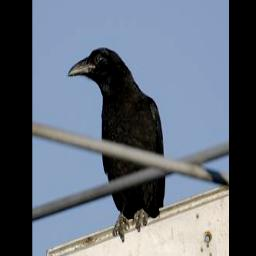Crow: (66, 45, 167, 241)
